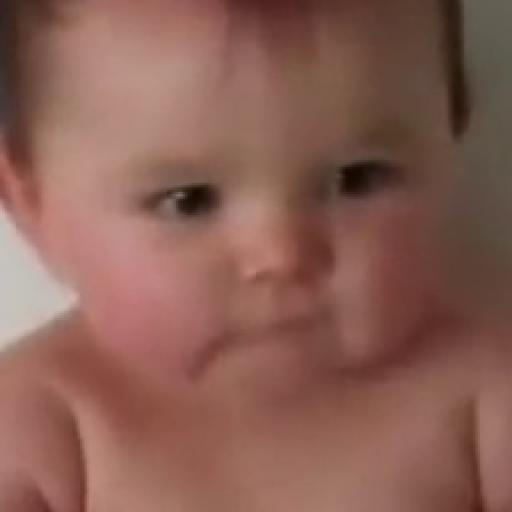Autism: (40, 14, 428, 428)
